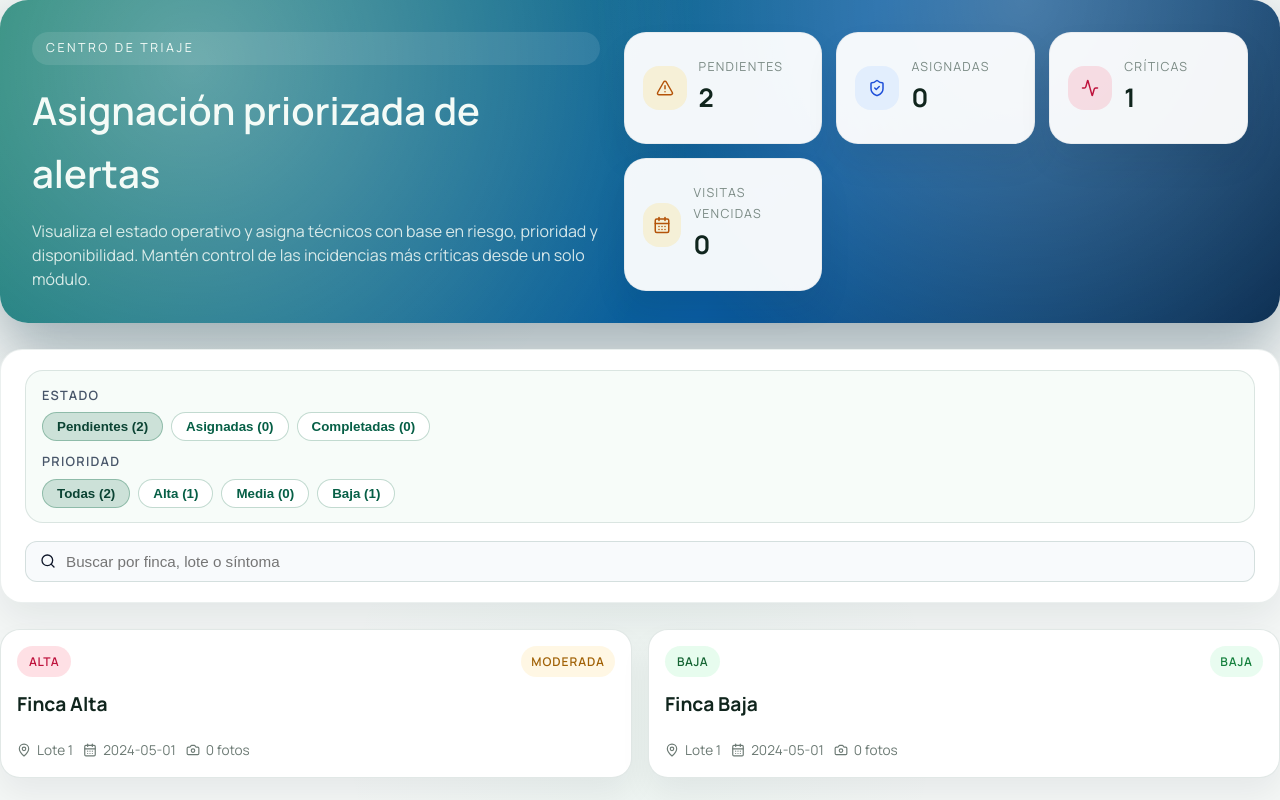
Scenario: AlertTriageView filters › priority pills filter the pending alerts displayed
Expected: the heading "Finca Alta" is shown, [17,691,108,717]
Expected: the heading "Finca Baja" is shown, [665,691,758,717]
Click the button "Alta (1)".
click(176, 493)  # box [138,478,214,508]
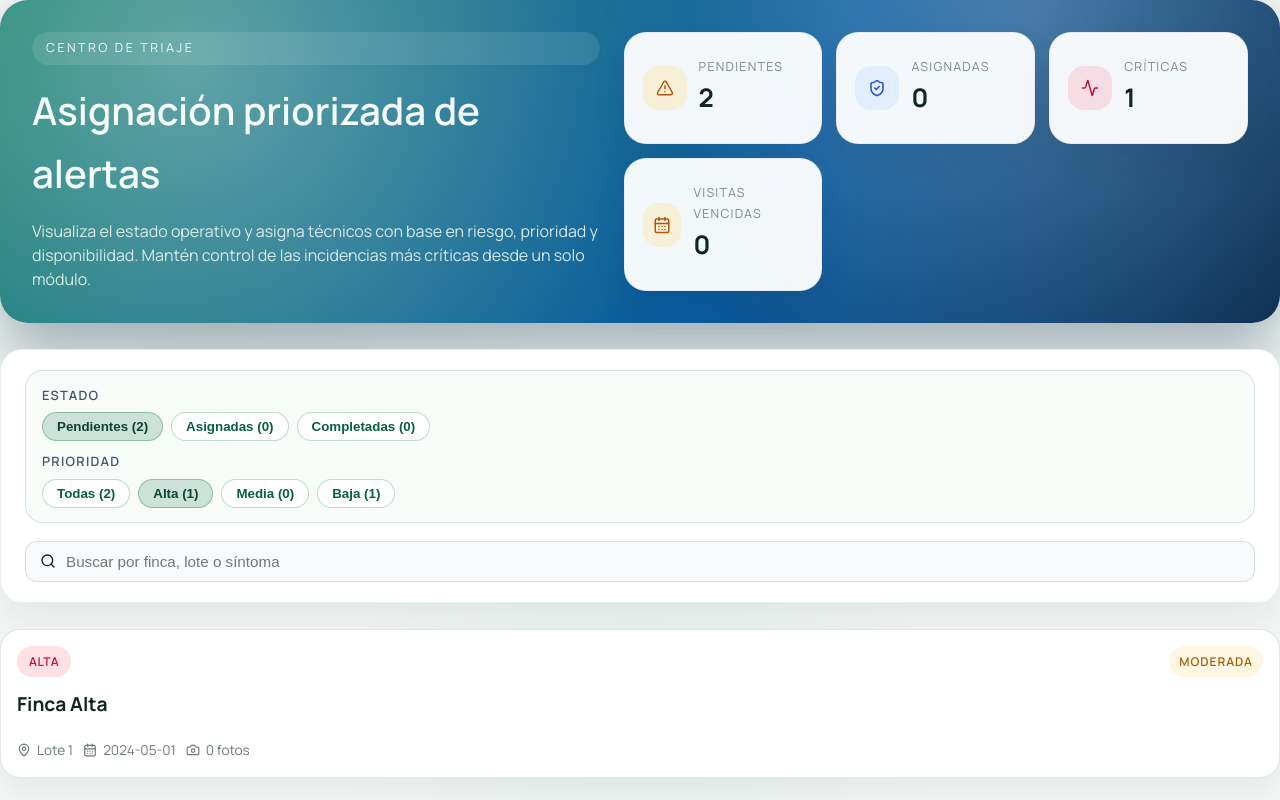
Expected: the heading "Finca Alta" is shown, [17,691,108,717]
Now the heading "Finca Baja" is gone
